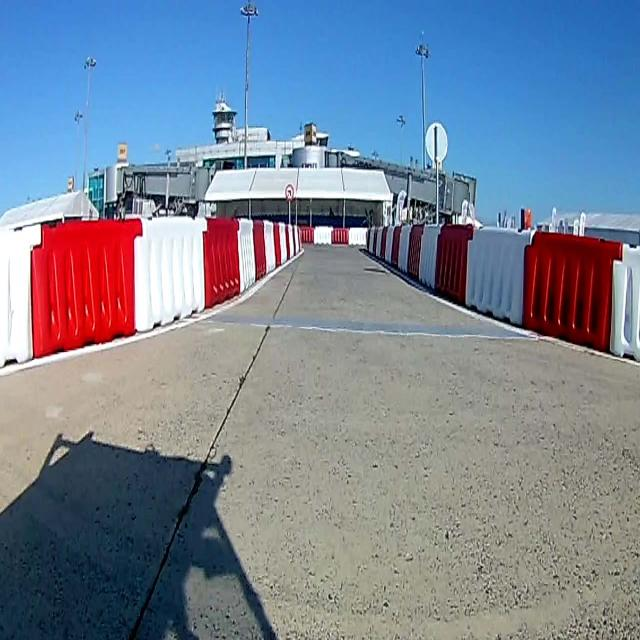soladonulmez: (284, 183, 294, 202)
